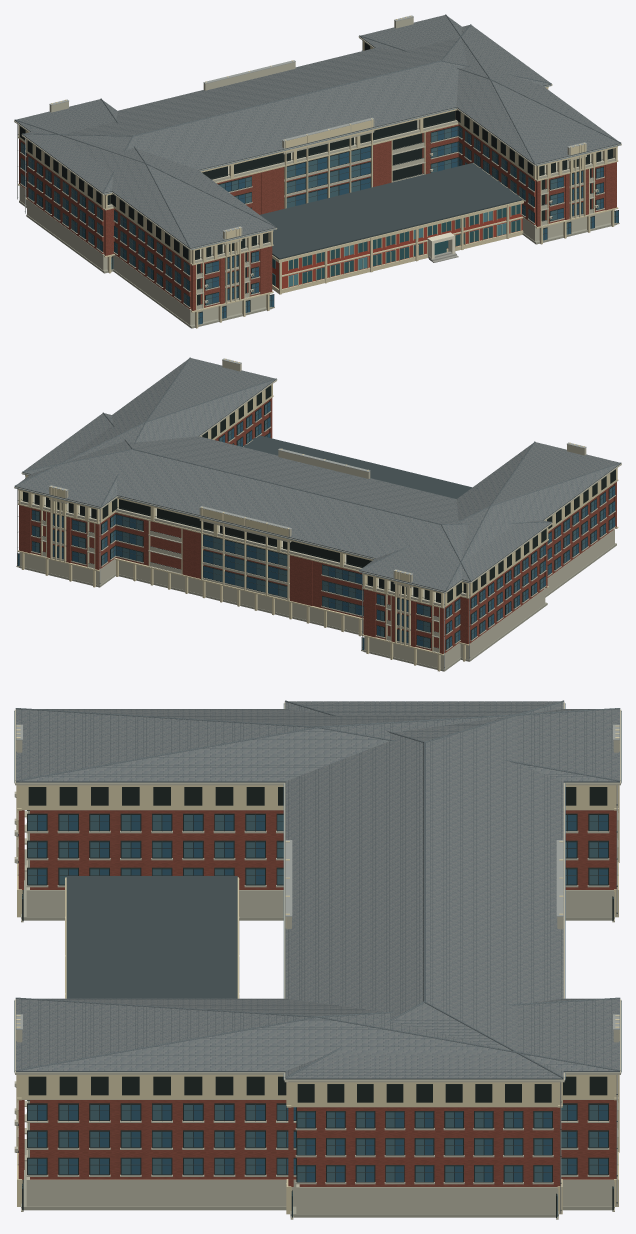
3 views of the same model, one above another, from view 1: azimuth 30°, elevation 25°; view 2: azimuth 150°, elevation 25°; view 3: azimuth 270°, elevation 25° (orthographic). The views are drawn at different scales.
Visible parts, largest first — view 1: MainTeachingBlock_PhotoLowPitchedRoof_ClippedTileField_3, LowerSouthWing_Roof, MainTeachingBlock_PhotoLowPitchedRoof_ClippedTileField_1, SideConnector_-1_PhotoLowPitchedRoof_ClippedTileField_3, SideConnector_1_PhotoLowPitchedRoof_ClippedTileField_3, SideConnector_-1_PhotoLowPitchedRoof_ClippedTileField_4, LowerSouthWing_WindowGlass, SideConnector_1_PhotoLowPitchedRoof_ClippedTileField_4, LowerSouthWing_Structure, MainTeachingBlock_CentralStair_GlassPane, MainTeachingBlock_BroadSolidBrickPiers, MainTeachingBlock_PhotoLowPitchedRoof_ClippedTileField_4 (+60 smaller); view 2: MainTeachingBlock_PhotoLowPitchedRoof_ClippedTileField_1, MainTeachingBlock_PhotoLowPitchedRoof_ClippedTileField_3, MainTeachingBlock_PaleStoneGroundBody, SideConnector_-1_PhotoLowPitchedRoof_ClippedTileField_4, SideConnector_-1_PhotoLowPitchedRoof_ClippedTileField_3, SideConnector_1_PhotoLowPitchedRoof_ClippedTileField_3, MainTeachingBlock_SetBackBrickCore, SideConnector_1_PhotoLowPitchedRoof_ClippedTileField_4, LowerSouthWing_Roof, MainTeachingBlock_CentralStair_GlassPane, SideConnector_1_PhotoLowPitchedRoof_ClippedTileField_1, SideConnector_-1_PhotoLowPitchedRoof_ClippedTileField_1 (+56 smaller); view 3: MainTeachingBlock_PhotoLowPitchedRoof_ClippedTileField_1, MainTeachingBlock_PhotoLowPitchedRoof_ClippedTileField_3, LowerSouthWing_Roof, SideConnector_1_SetBackBrickCore, SideConnector_1_PhotoLowPitchedRoof_ClippedTileField_2, SideConnector_-1_SetBackBrickCore, MainTeachingBlock_PhotoLowPitchedRoof_ThinOverlappingTileCou, MainTeachingBlock_SetBackBrickCore, SideConnector_-1_PhotoLowPitchedRoof_ClippedTileField_3, SideConnector_1_PhotoLowPitchedRoof_ClippedTileField_3, SideConnector_-1_PhotoLowPitchedRoof_ClippedTileField_2, SideConnector_1_SideRoom_GlassPane (+48 smaller).
Boxes of the visible parts, left/top/right/bottom form: MainTeachingBlock_PhotoLowPitchedRoof_ClippedTileField_3: left=104, top=61, right=550, bottom=192; LowerSouthWing_Roof: left=260, top=162, right=522, bottom=259; MainTeachingBlock_PhotoLowPitchedRoof_ClippedTileField_1: left=25, top=25, right=469, bottom=135; SideConnector_-1_PhotoLowPitchedRoof_ClippedTileField_3: left=147, top=164, right=275, bottom=248; SideConnector_1_PhotoLowPitchedRoof_ClippedTileField_3: left=491, top=80, right=620, bottom=163; SideConnector_-1_PhotoLowPitchedRoof_ClippedTileField_4: left=16, top=120, right=188, bottom=246; LowerSouthWing_WindowGlass: left=289, top=204, right=520, bottom=286; SideConnector_1_PhotoLowPitchedRoof_ClippedTileField_4: left=360, top=36, right=533, bottom=162; LowerSouthWing_Structure: left=272, top=203, right=522, bottom=288; MainTeachingBlock_CentralStair_GlassPane: left=286, top=147, right=370, bottom=207; MainTeachingBlock_BroadSolidBrickPiers: left=26, top=140, right=391, bottom=255; MainTeachingBlock_PhotoLowPitchedRoof_ClippedTileField_4: left=23, top=134, right=131, bottom=192; MainTeachingBlock_PhotoLowPitchedRoof_ClippedTileField_1: left=23, top=449, right=470, bottom=581; MainTeachingBlock_PhotoLowPitchedRoof_ClippedTileField_3: left=104, top=413, right=548, bottom=524; MainTeachingBlock_PaleStoneGroundBody: left=119, top=560, right=545, bottom=659; SideConnector_-1_PhotoLowPitchedRoof_ClippedTileField_4: left=447, top=463, right=619, bottom=589; SideConnector_-1_PhotoLowPitchedRoof_ClippedTileField_3: left=492, top=442, right=619, bottom=505; SideConnector_1_PhotoLowPitchedRoof_ClippedTileField_3: left=147, top=358, right=274, bottom=421; MainTeachingBlock_SetBackBrickCore: left=150, top=521, right=544, bottom=643; SideConnector_1_PhotoLowPitchedRoof_ClippedTileField_4: left=102, top=379, right=275, bottom=505; LowerSouthWing_Roof: left=243, top=435, right=472, bottom=498; MainTeachingBlock_CentralStair_GlassPane: left=203, top=535, right=287, bottom=597; SideConnector_1_PhotoLowPitchedRoof_ClippedTileField_1: left=15, top=423, right=143, bottom=506; SideConnector_-1_PhotoLowPitchedRoof_ClippedTileField_1: left=360, top=508, right=488, bottom=591; MainTeachingBlock_PhotoLowPitchedRoof_ClippedTileField_1: left=425, top=702, right=563, bottom=1076; MainTeachingBlock_PhotoLowPitchedRoof_ClippedTileField_3: left=285, top=702, right=423, bottom=1076; LowerSouthWing_Roof: left=66, top=876, right=237, bottom=998; SideConnector_1_SetBackBrickCore: left=30, top=1100, right=614, bottom=1179; SideConnector_1_PhotoLowPitchedRoof_ClippedTileField_2: left=19, top=1018, right=616, bottom=1070; SideConnector_-1_SetBackBrickCore: left=30, top=810, right=614, bottom=889; MainTeachingBlock_PhotoLowPitchedRoof_ThinOverlappingTileCou: left=285, top=702, right=562, bottom=1078; MainTeachingBlock_SetBackBrickCore: left=299, top=1107, right=557, bottom=1186; SideConnector_-1_PhotoLowPitchedRoof_ClippedTileField_3: left=16, top=709, right=311, bottom=780; SideConnector_1_PhotoLowPitchedRoof_ClippedTileField_3: left=16, top=999, right=311, bottom=1069; SideConnector_-1_PhotoLowPitchedRoof_ClippedTileField_2: left=19, top=728, right=616, bottom=781; SideConnector_1_SideRoom_GlassPane: left=28, top=1105, right=607, bottom=1174.
Bounding box in the file's own units: 109 × 21.6 × 74.37.
21 materials, 1 textured.
